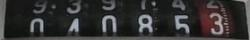digits: (171, 13, 193, 40), (96, 13, 118, 38), (135, 12, 156, 38), (205, 11, 224, 37), (25, 16, 47, 38), (64, 17, 82, 38)
